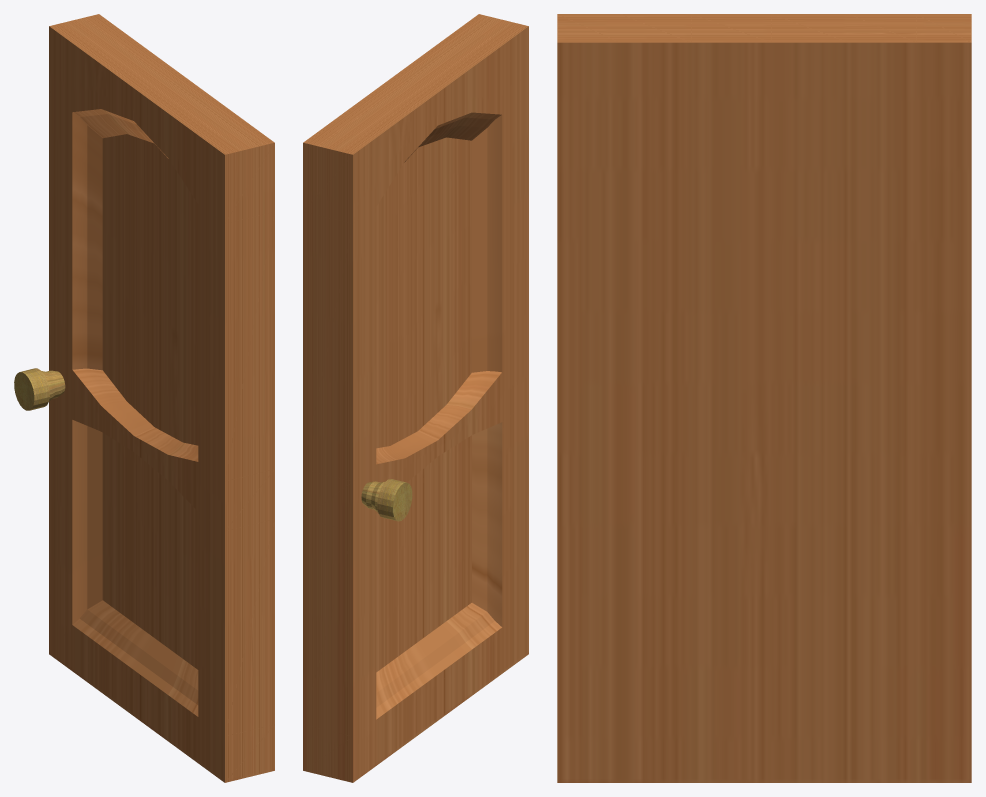
File: door3.fbx
3 renders of one model, left to right at view 1: azimuth 30°, elevation 25°; view 2: azimuth 150°, elevation 25°; view 3: azimuth 270°, elevation 25°, orthographic. The views are drawn at different scales.
Parts seen in each view (by area): view 1: pCube1, pCylinder1; view 2: pCube1, pCylinder1; view 3: pCube1.
Part boxes in pixels (bbox=[...]): pCube1: bbox=[49, 14, 274, 782]; pCylinder1: bbox=[14, 368, 65, 410]; pCube1: bbox=[303, 14, 528, 782]; pCylinder1: bbox=[361, 479, 412, 521]; pCube1: bbox=[557, 14, 971, 782].
Bounding box in the file's own units: 1.8 × 12.34 × 6.26.
Materials: 2 (2 with a texture image).
